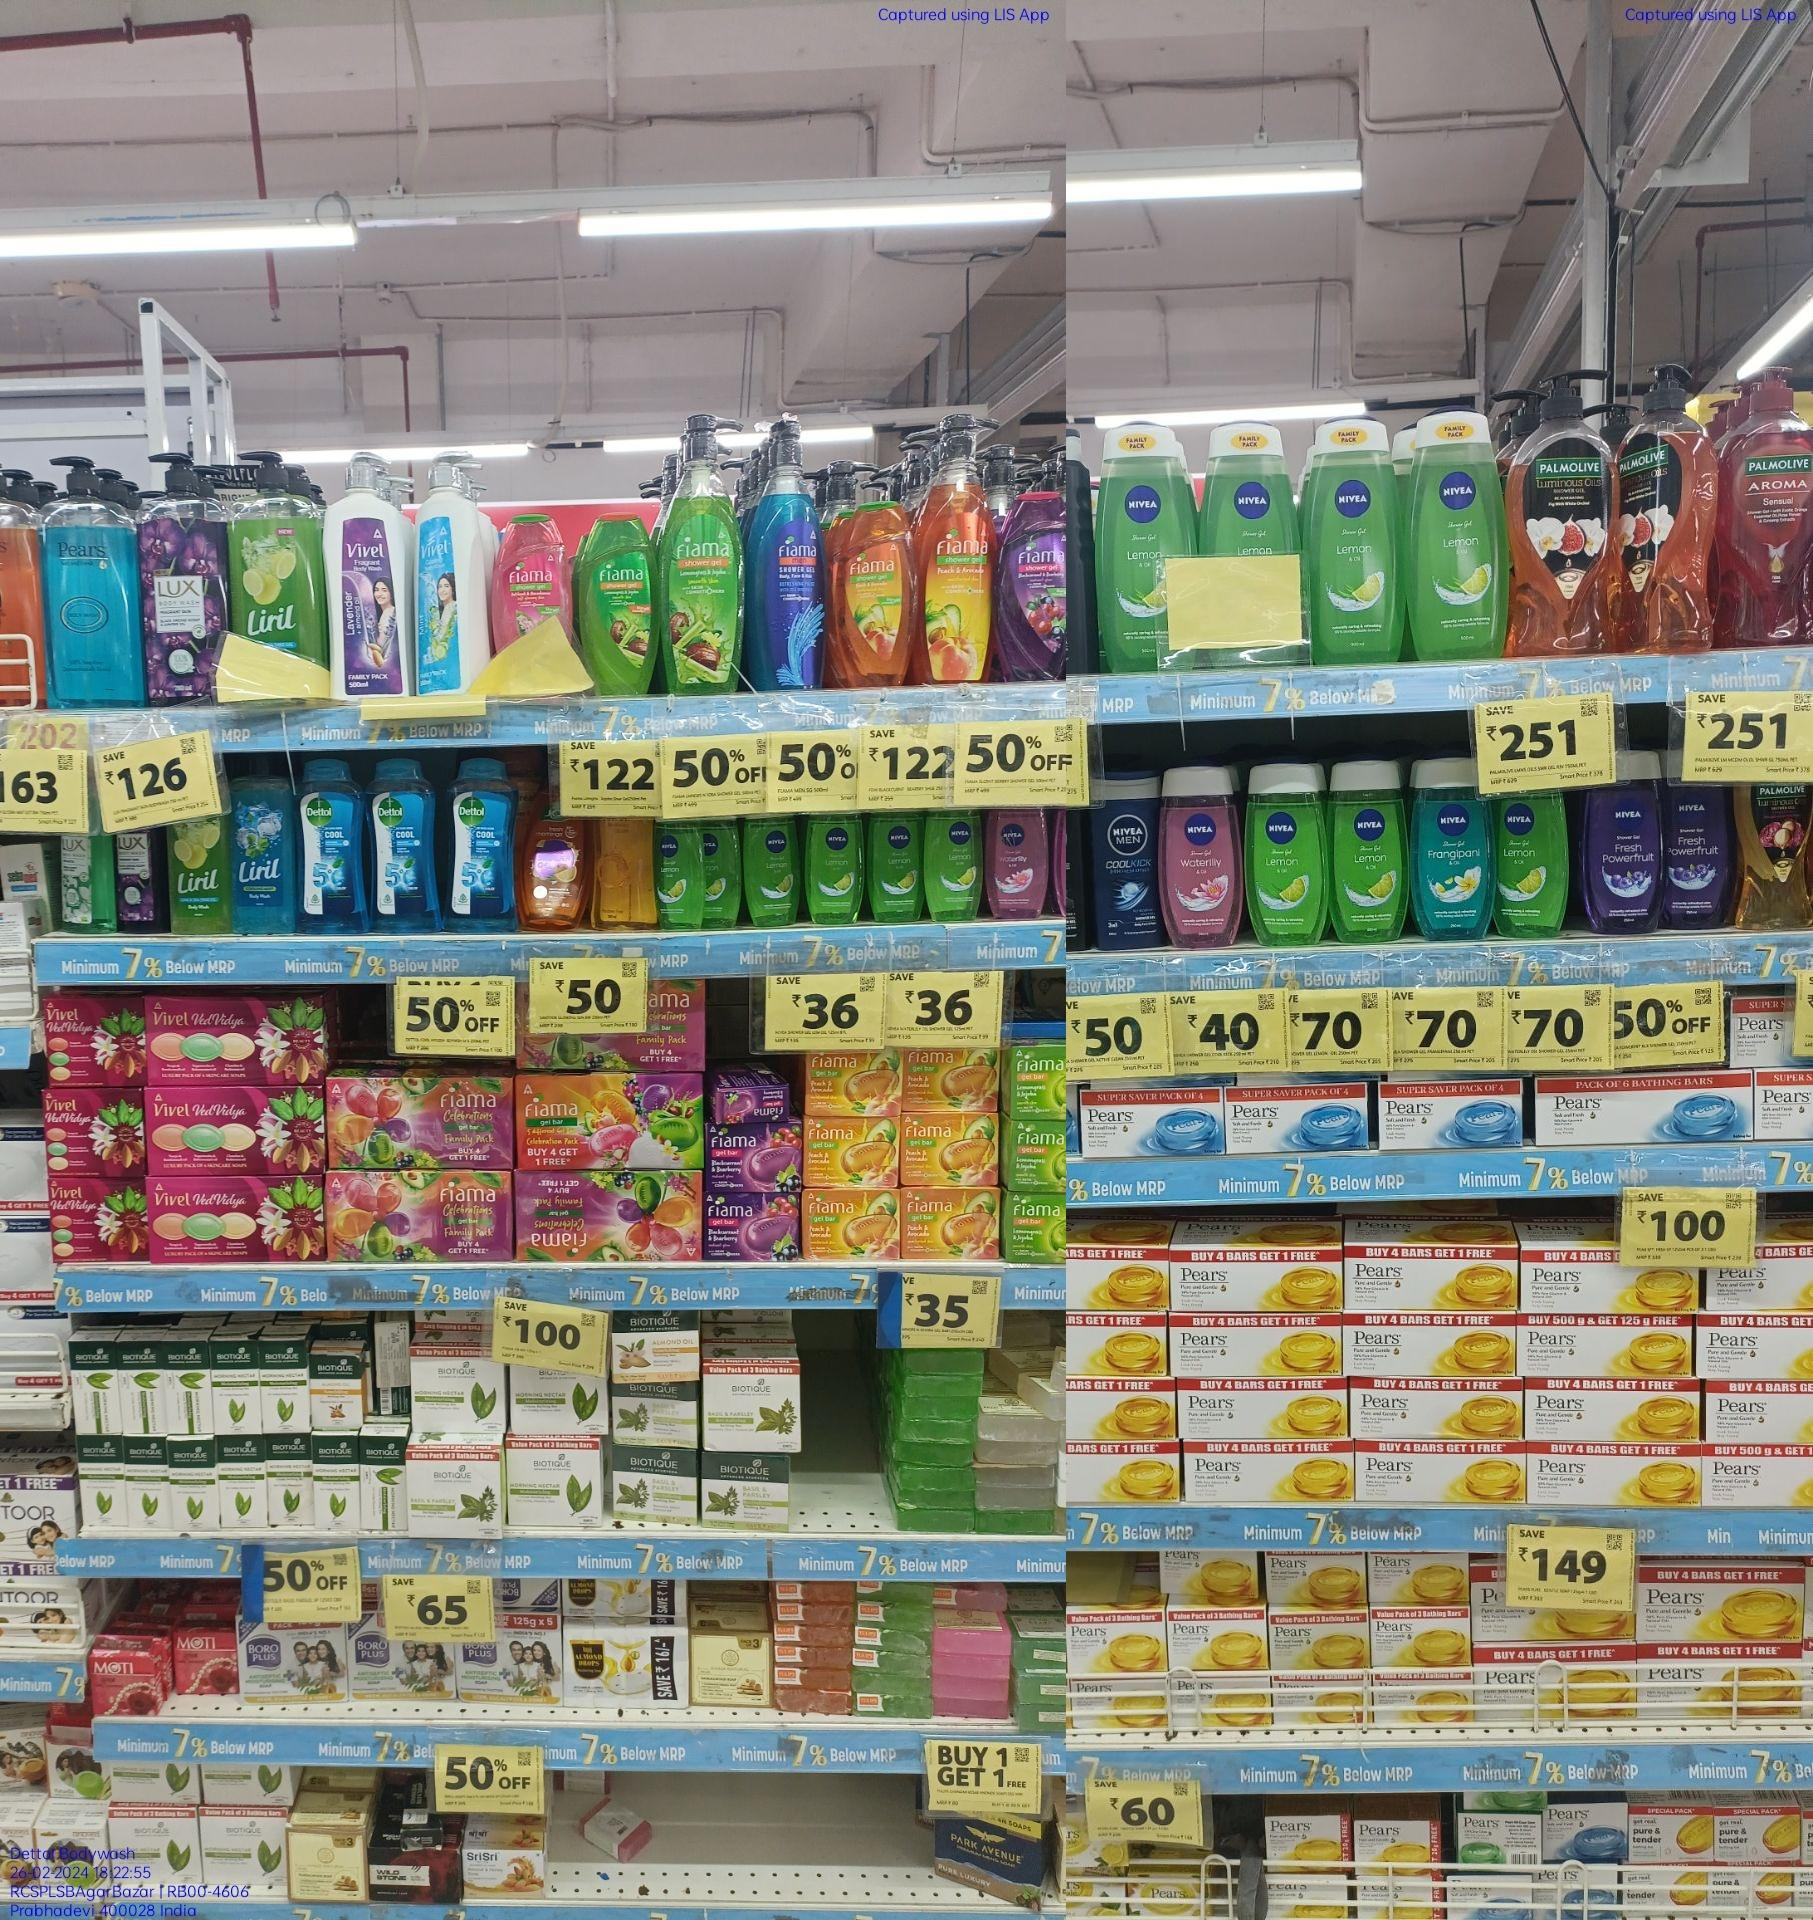Dettol_Bodywash_Cool: (370, 755, 440, 935), (445, 755, 513, 935), (300, 758, 365, 934)
Fiama_Shower_Gel_Lemongrass_and_Jojoba_250ML: (583, 516, 651, 697)
Fiama_Shower_Gel_Patchouli_and_Macadamia_250ML: (496, 516, 571, 664)
Fiama_Shower_Gel_Peach_and_Avocado_250ML: (840, 501, 912, 690)
Joy_Shower_Gel_Mandarin_and_Lemongrass_250ML: (523, 782, 588, 934)
Liril_Cooling_Mint_Body_Wash_250ML: (232, 758, 295, 940)
Nivea_Shower_Gel_Frangipani_and_Oil_250ML: (1411, 755, 1491, 940)
Nivea_Shower_Gel_Fresh_Powerfruit_250ML: (1585, 748, 1660, 939), (1665, 755, 1733, 930)
Nivea_Shower_Gel_Lemon_and_Oil_250ML: (1310, 412, 1406, 666), (1409, 404, 1503, 659), (1101, 424, 1189, 675), (1247, 760, 1326, 951), (1331, 758, 1404, 947), (1205, 412, 1290, 554), (1496, 789, 1568, 940)
Nivea_Shower_Gel_Waterlily_and_Oil_250ML: (1162, 765, 1239, 951)
Palmolive_Luminous_Oils_Invigorating_Macadamia_Oil_With_Peony_250ML: (1741, 775, 1813, 934)
